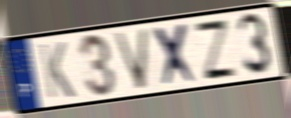3: (235, 10, 275, 78), (78, 31, 117, 100)
K: (37, 40, 78, 101)
V: (111, 27, 152, 92)
X: (151, 20, 201, 90)
Z: (192, 18, 240, 82)
